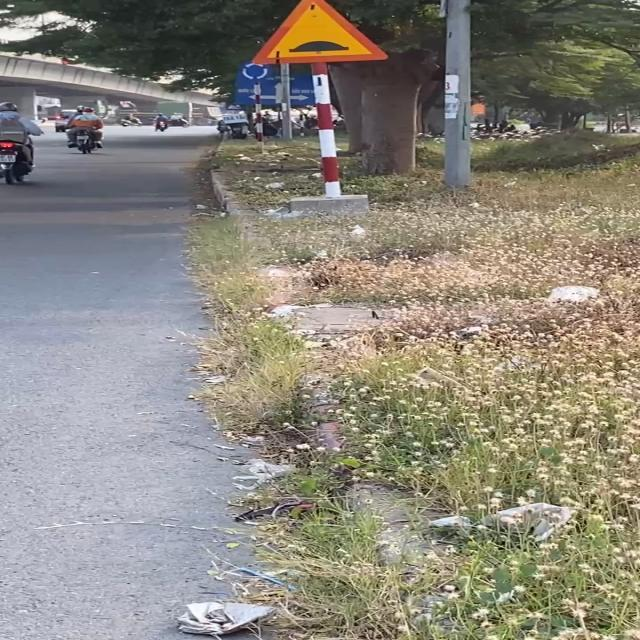221-duong-go-ghe: (252, 0, 387, 64)
303-noi-giao-nhau-chay-theo-vong-xuyen: (240, 62, 272, 82)
